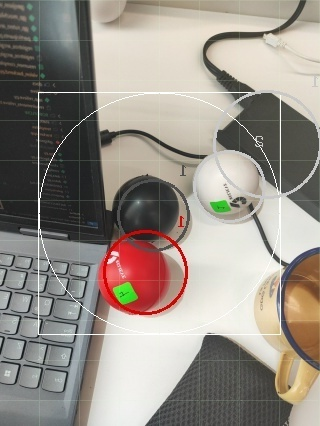Pelota blanca: (147, 331, 292, 425), (215, 89, 320, 198), (279, 246, 320, 387), (191, 148, 265, 224), (258, 196, 320, 264), (274, 350, 320, 403), (90, 0, 129, 25), (287, 398, 320, 425)
Pelota negra: (114, 174, 193, 243)
Pelota roja: (98, 230, 191, 315)
